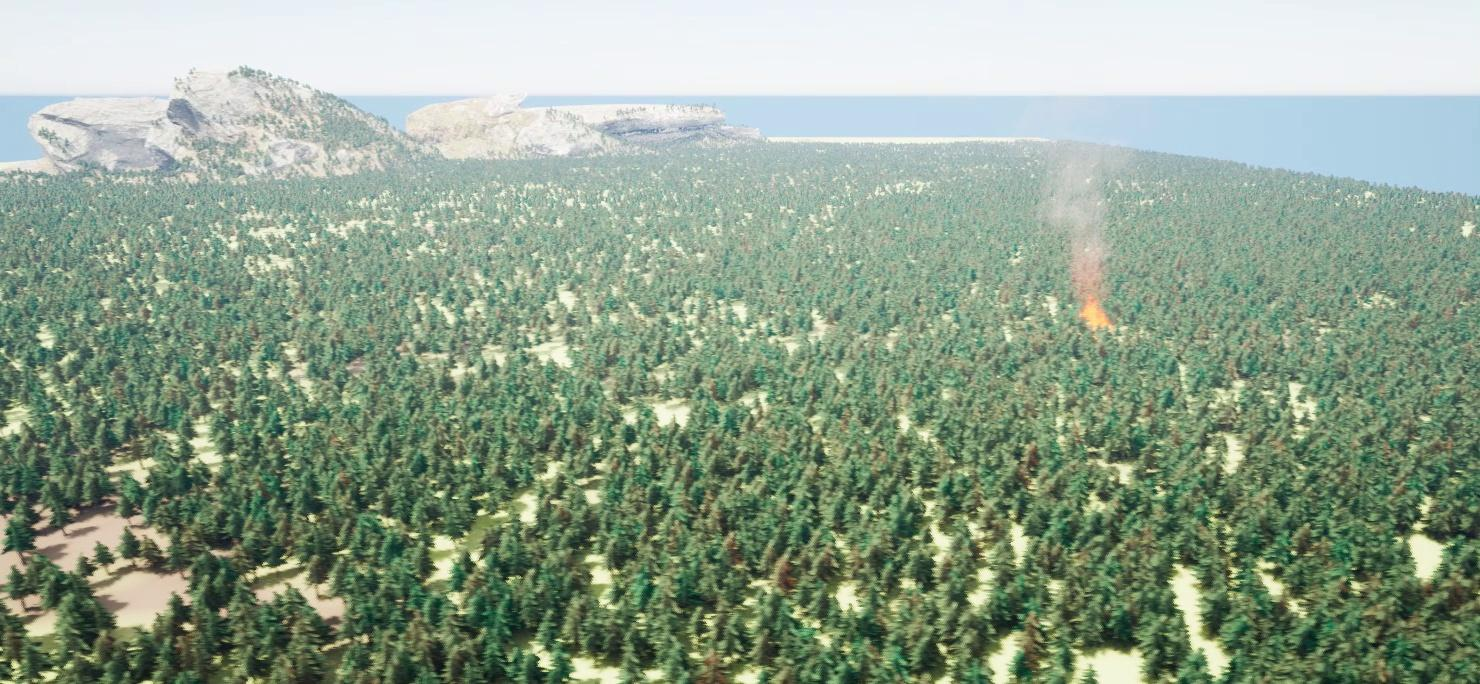fire: (1079, 300, 1118, 338)
smoke: (1026, 133, 1128, 292)
